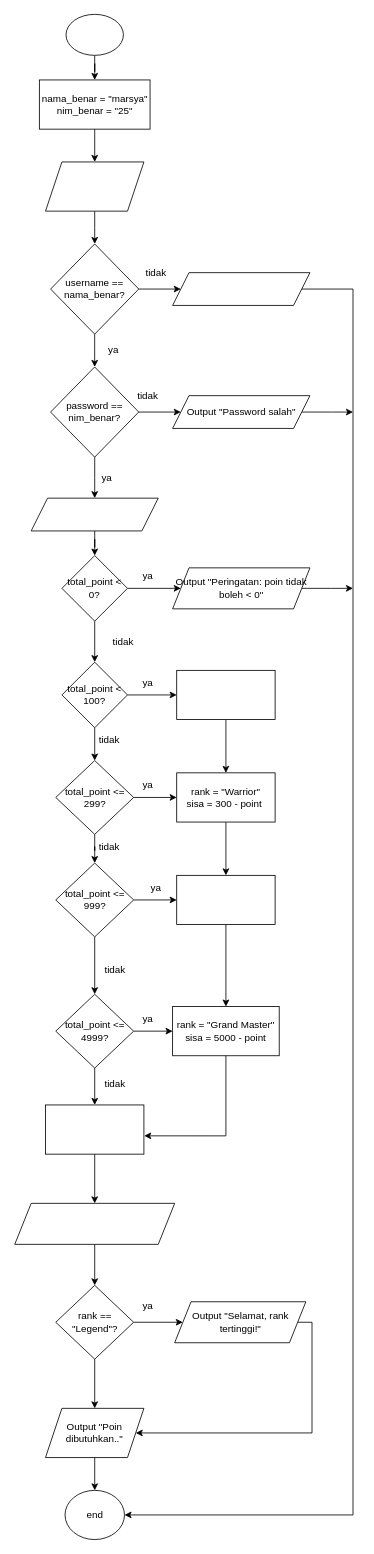
Image size: 374x1554. Some labels were removed from this diagram. Here are the shapes that lost their labels. From the top down, the centre of each, then its label:
point 94,34: start
point 94,186: input username input password
point 241,288: Output "username salah"
point 94,514: Output "login berhasil" Input total_point
point 225,695: rank = "Rookie" sisa = 100 - point
point 225,900: rank = "Master" sisa = 1000 - point
point 94,1129: rank = "Legend" sisa = 0
point 94,1223: Output Username, Point, Rank
